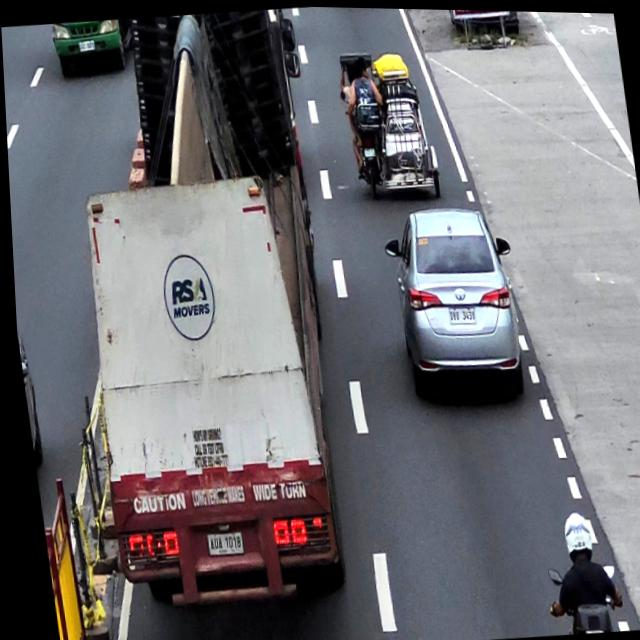Car: (378, 198, 528, 410)
License-Plate: (200, 531, 238, 554), (446, 304, 473, 324), (361, 145, 375, 156)
Tricycle: (334, 43, 440, 203)
Truck: (44, 2, 370, 620)
